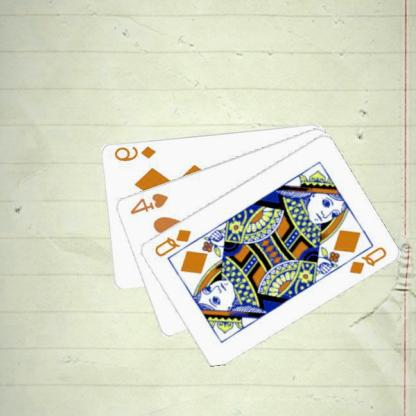4H: (128, 190, 172, 216)
9D: (113, 143, 159, 163)
QD: (348, 243, 390, 276), (153, 226, 194, 258)
